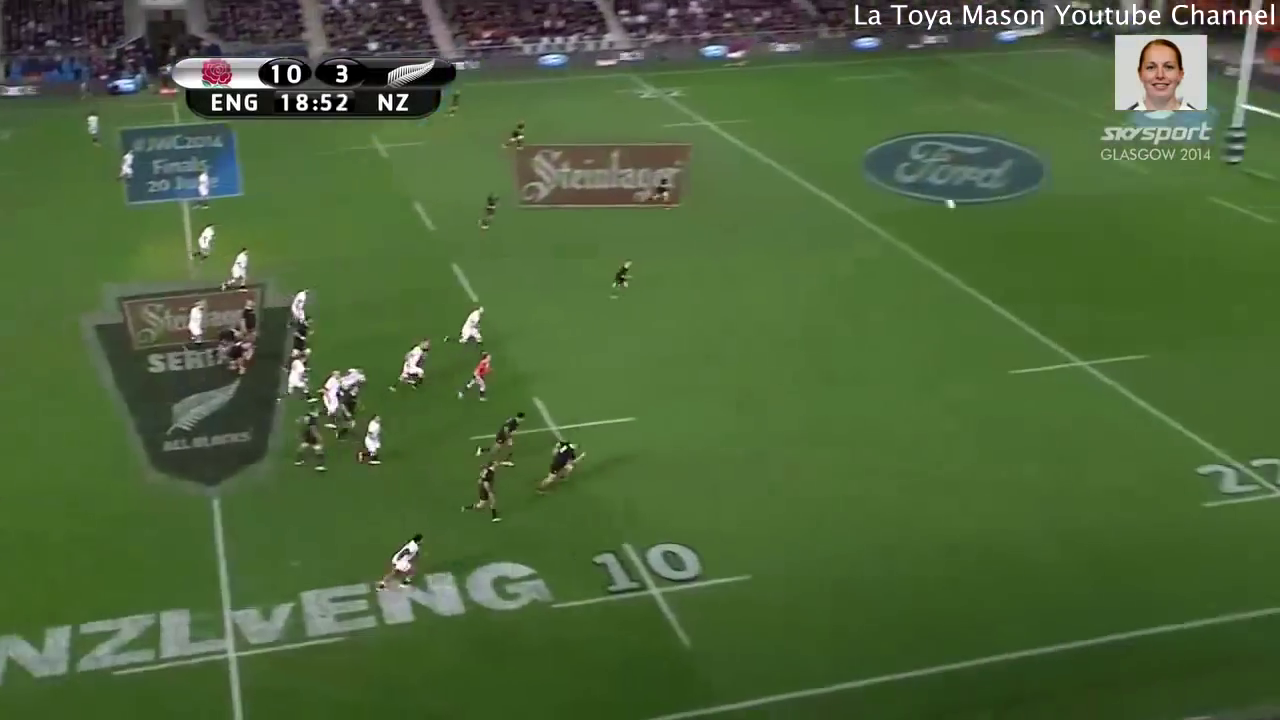player: (542, 533, 759, 656), (455, 392, 641, 480), (523, 418, 586, 500), (468, 396, 535, 470), (369, 529, 427, 607), (452, 457, 512, 530), (329, 130, 437, 168), (287, 401, 331, 478), (437, 294, 493, 354), (382, 336, 434, 400), (267, 349, 320, 406), (210, 325, 258, 386), (213, 240, 259, 300), (450, 348, 498, 402), (600, 252, 641, 312), (177, 294, 214, 360), (280, 313, 320, 373), (329, 380, 365, 443), (468, 182, 503, 244), (186, 217, 223, 274), (283, 277, 317, 339), (354, 406, 386, 471), (187, 157, 219, 218), (646, 164, 678, 221), (497, 112, 533, 162), (316, 363, 343, 429), (234, 295, 267, 348), (110, 143, 143, 193), (81, 103, 108, 154), (333, 363, 371, 394), (440, 86, 467, 124)
